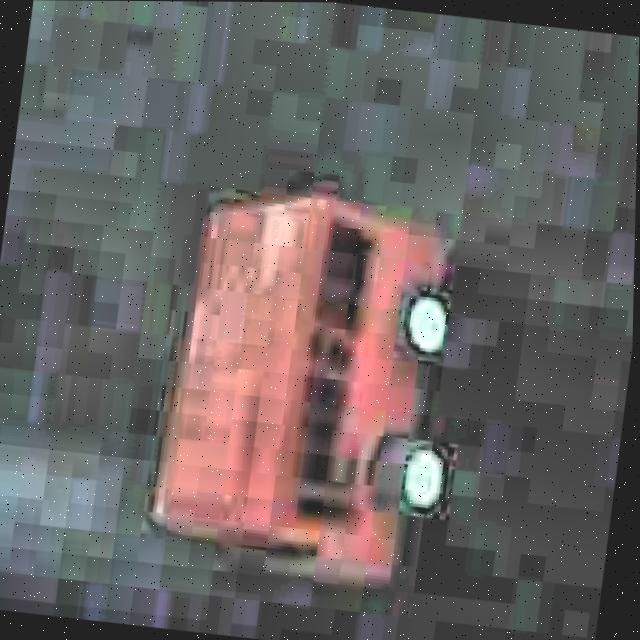bus: (107, 160, 505, 616)
